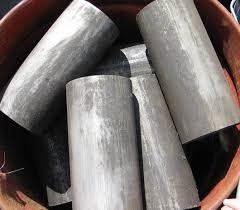metal: (1, 1, 122, 134), (134, 1, 238, 137), (60, 69, 149, 210), (126, 73, 206, 210)
